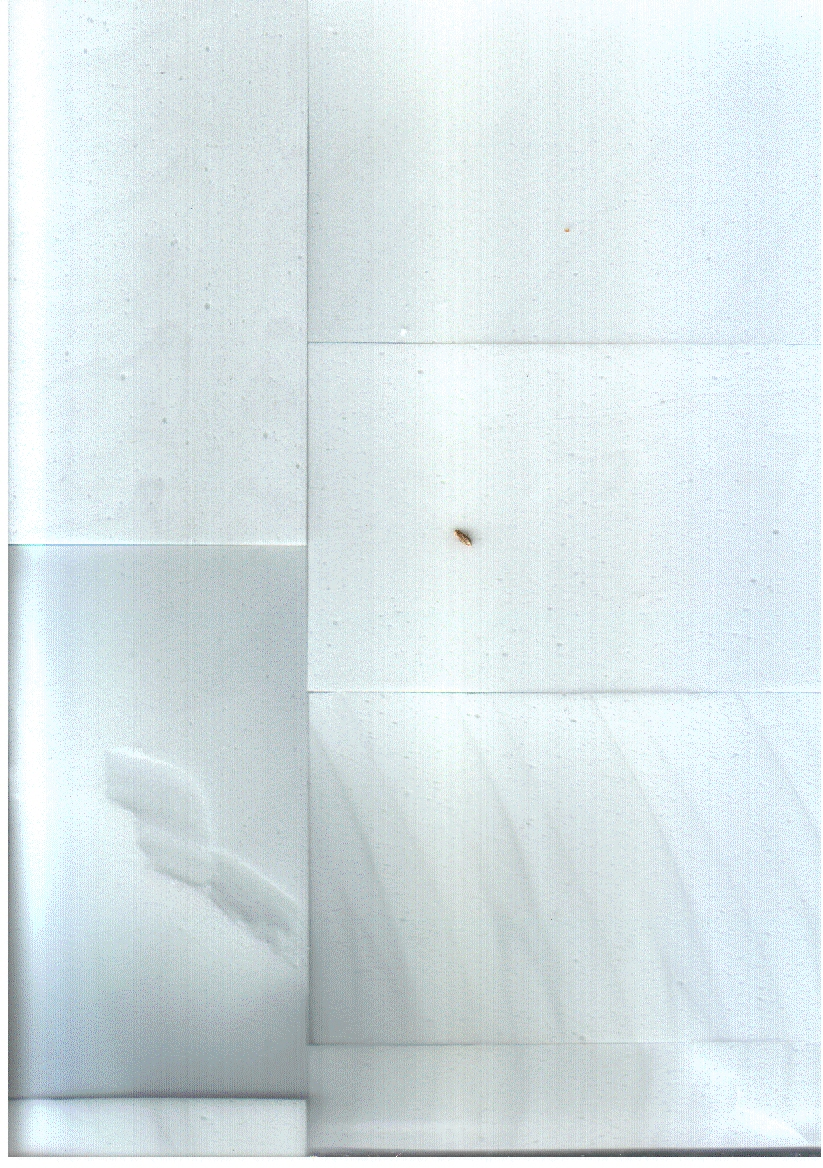grains: (447, 516, 478, 559)
